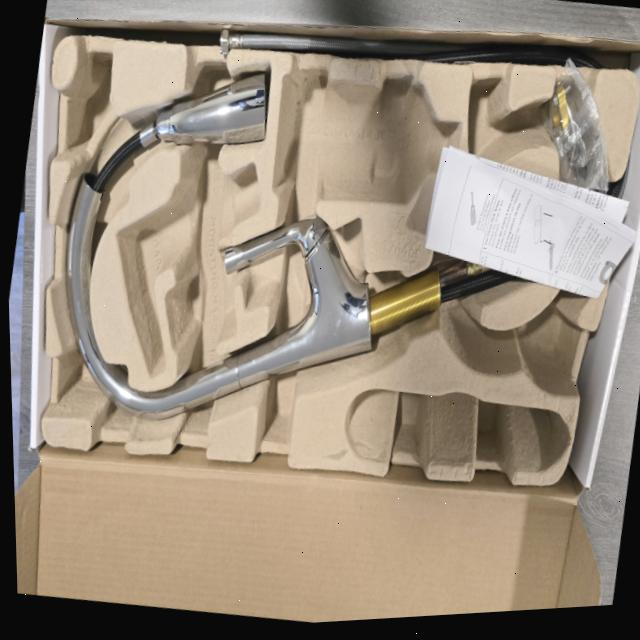1o: (66, 71, 622, 419)
2m: (115, 163, 260, 378)
3m: (273, 80, 462, 200)
4m: (343, 390, 568, 469)
5m: (518, 310, 577, 387)
6: (537, 55, 607, 192)
7m: (468, 82, 531, 195)
8: (423, 145, 636, 299)
